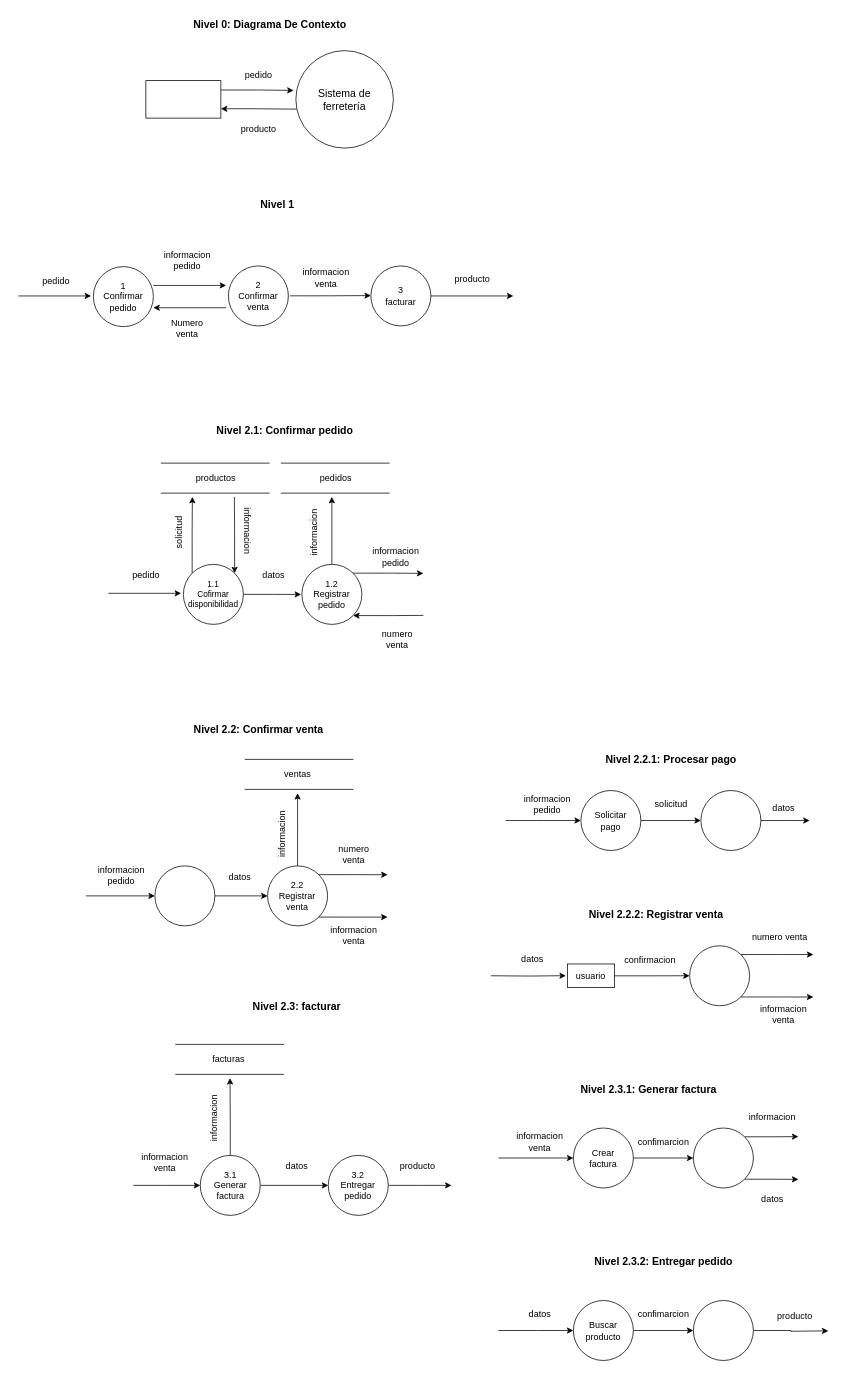
Some shapes in this 848 by 1396 pixel diagram are drawn without their labels. Here are the shapes that lost their labels. From the top down, the box of each, then its label:
(145, 80, 221, 118): Cliente
(700, 790, 761, 850): Enviar pago
(154, 865, 215, 926): 2.1 Procesar pago
(689, 945, 750, 1006): Registrar datos
(693, 1127, 753, 1188): Registrar factura
(693, 1300, 753, 1360): Empaquetar pedido
